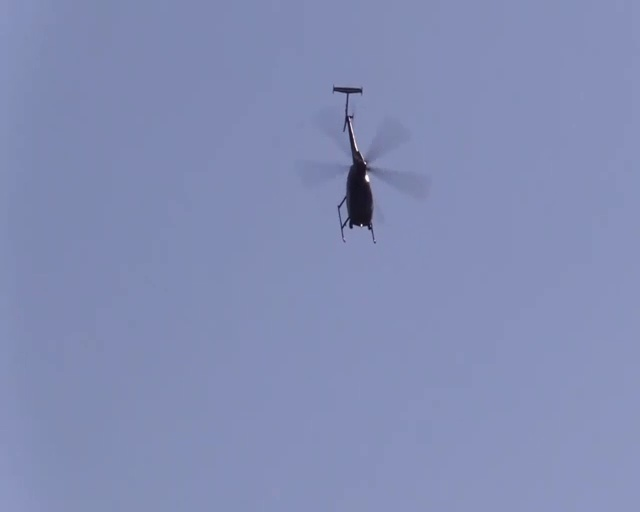HELICOPTER: (292, 84, 431, 244)
